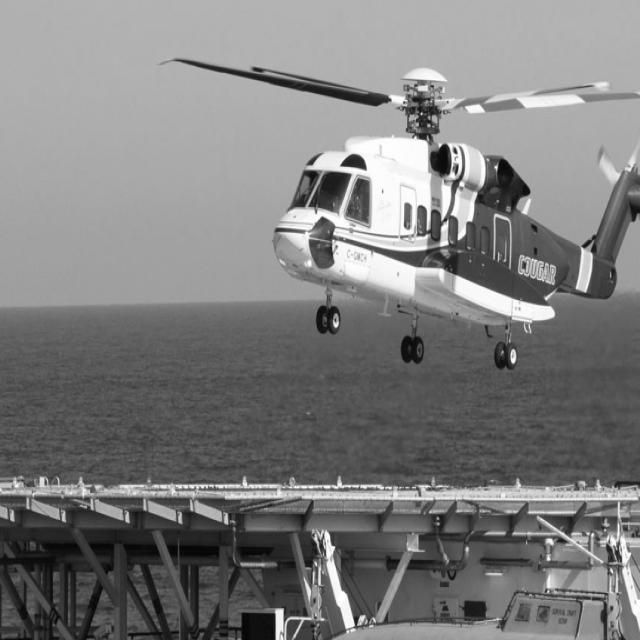helicopter: (165, 55, 640, 376)
